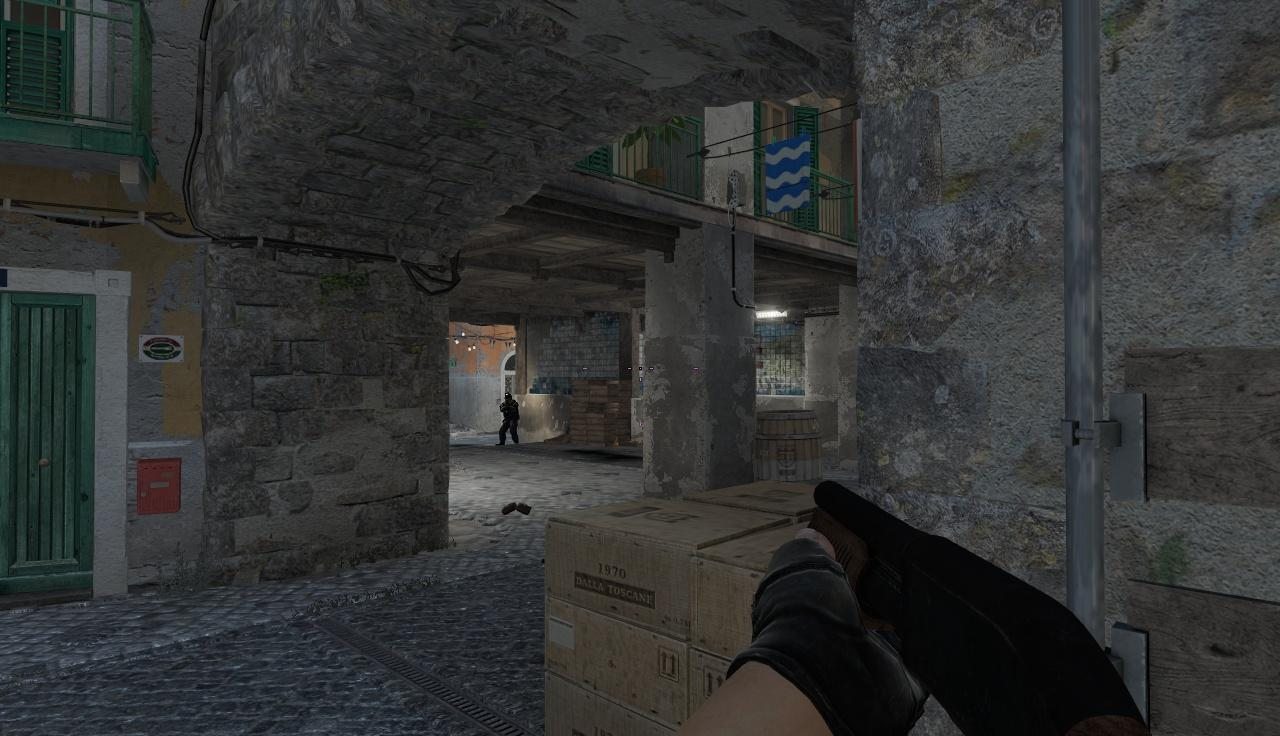ct: (499, 393, 519, 444)
cthead: (504, 393, 512, 403)
shotgun: (793, 475, 1156, 736)
